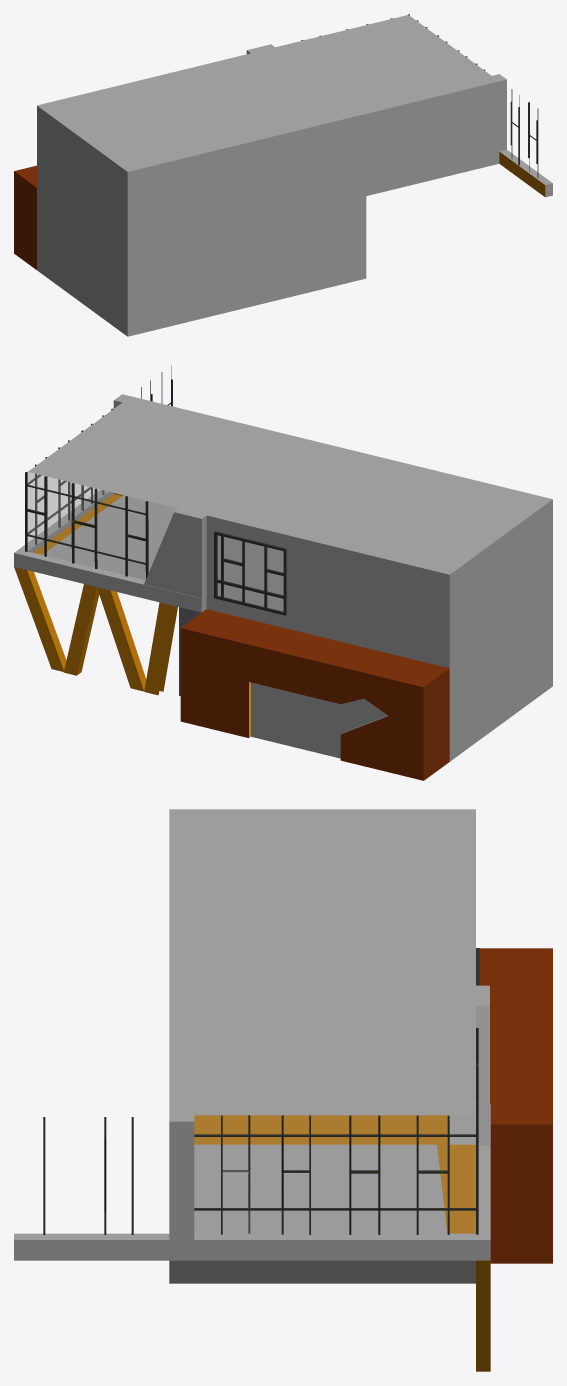
File: icam.glb
The picture shows the model from 3 angles, top to bottom: view 1: azimuth 30°, elevation 25°; view 2: azimuth 150°, elevation 25°; view 3: azimuth 270°, elevation 25°; orthographic projection. The views are drawn at different scales.
Parts seen in each view (by area): view 1: Base, Amphi, struct fenetre 2; view 2: Base, Amphi, fenetre 1+2, Poutre, fenetre 4, fenetre 3, struct fenetre 3, struct fenetre 2, Struct fenetre 1; view 3: Base, fenetre 1+2, Amphi, Mur de béton, struct fenetre 2, Poutre.
Boxes of the visible parts, x1=… form: Base: x1=37, y1=15, x2=552, y2=336; Amphi: x1=14, y1=165, x2=36, y2=269; struct fenetre 2: x1=408, y1=14, x2=538, y2=177; Base: x1=14, y1=394, x2=552, y2=761; Amphi: x1=180, y1=609, x2=449, y2=780; fenetre 1+2: x1=28, y1=472, x2=177, y2=579; Poutre: x1=14, y1=567, x2=177, y2=695; fenetre 4: x1=251, y1=682, x2=387, y2=758; fenetre 3: x1=217, y1=535, x2=283, y2=611; struct fenetre 3: x1=214, y1=531, x2=286, y2=615; struct fenetre 2: x1=25, y1=365, x2=172, y2=564; Struct fenetre 1: x1=25, y1=476, x2=148, y2=578; Base: x1=14, y1=809, x2=490, y2=1260; fenetre 1+2: x1=194, y1=1115, x2=475, y2=1233; Amphi: x1=479, y1=948, x2=552, y2=1263; Mur de béton: x1=169, y1=1260, x2=475, y2=1283; struct fenetre 2: x1=43, y1=1063, x2=478, y2=1234; Poutre: x1=476, y1=1260, x2=490, y2=1371.
Size of the model in its own units: 11.71 by 4.86 by 8.54.
